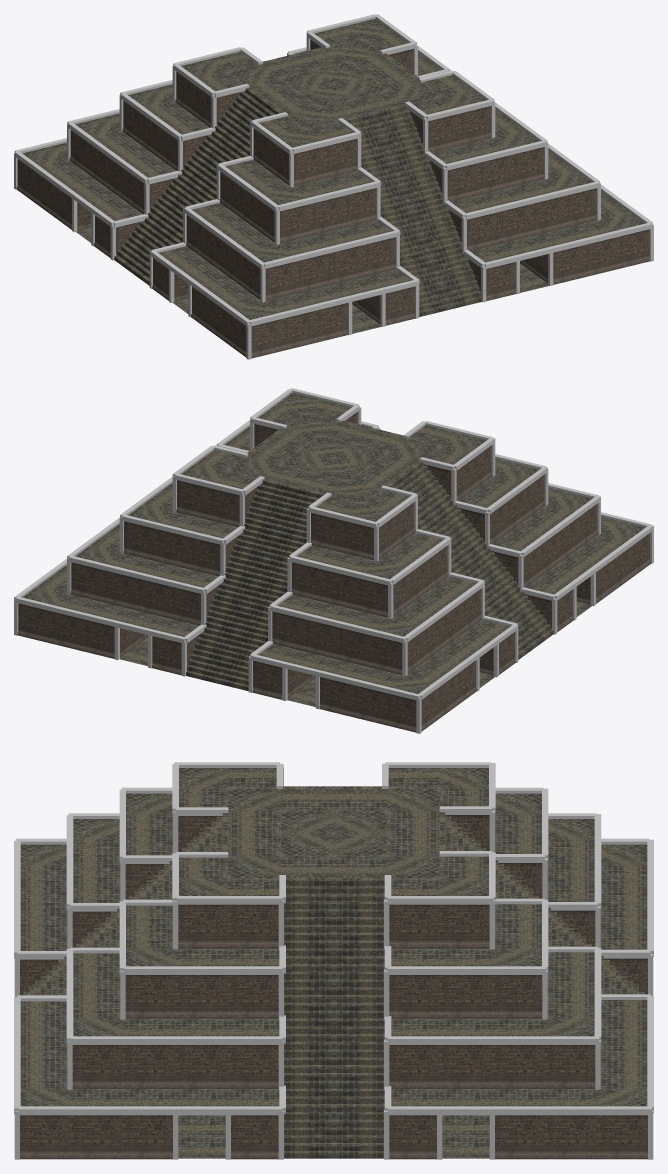
The model's file is m_temple_pyramid_grave_01.fbx.
3 views of the same model, one above another, from view 1: azimuth 30°, elevation 25°; view 2: azimuth 150°, elevation 25°; view 3: azimuth 270°, elevation 25° (orthographic). The views are drawn at different scales.
Parts seen in each view (by area): view 1: m_pyramid_grave_floors, m_pyramid_grave_walls, m_pyramid_grave_beams; view 2: m_pyramid_grave_floors, m_pyramid_grave_walls, m_pyramid_grave_beams; view 3: m_pyramid_grave_floors, m_pyramid_grave_walls, m_pyramid_grave_beams.
Boxes of the visible parts, <box> form: m_pyramid_grave_floors: <box>22,18,645,333</box>; m_pyramid_grave_walls: <box>16,39,650,358</box>; m_pyramid_grave_beams: <box>14,14,653,359</box>; m_pyramid_grave_floors: <box>22,392,645,706</box>; m_pyramid_grave_walls: <box>17,412,651,732</box>; m_pyramid_grave_beams: <box>14,388,653,733</box>; m_pyramid_grave_floors: <box>20,768,647,1158</box>; m_pyramid_grave_walls: <box>20,815,647,1159</box>; m_pyramid_grave_beams: <box>14,762,653,1159</box>.
Size of the model in its own units: 4850 by 1625 by 4850.
